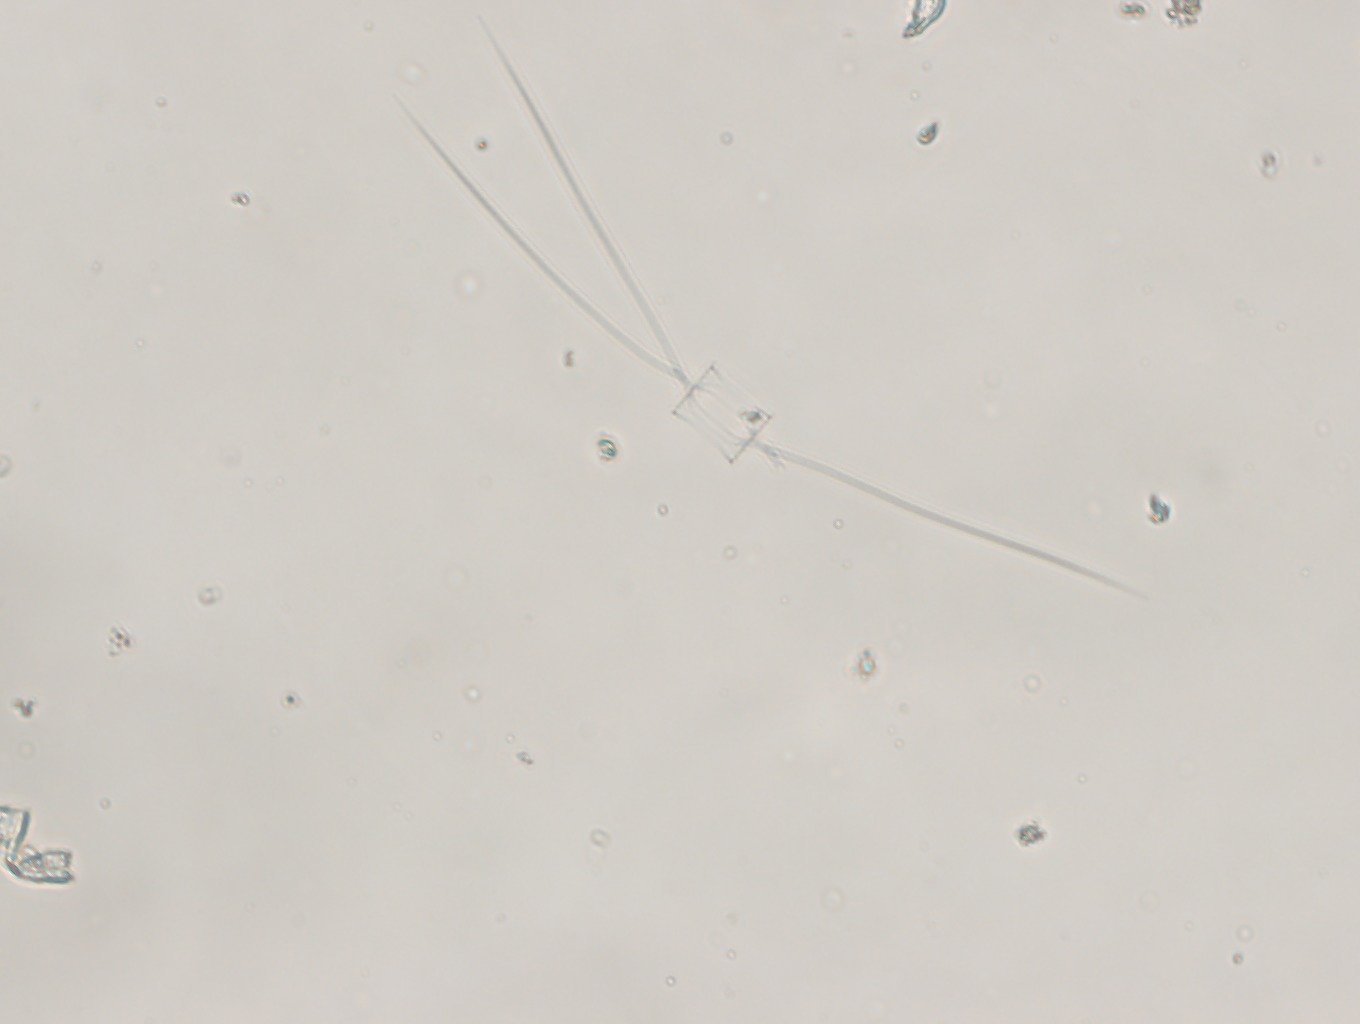chaetoceros: (378, 34, 1143, 614)
